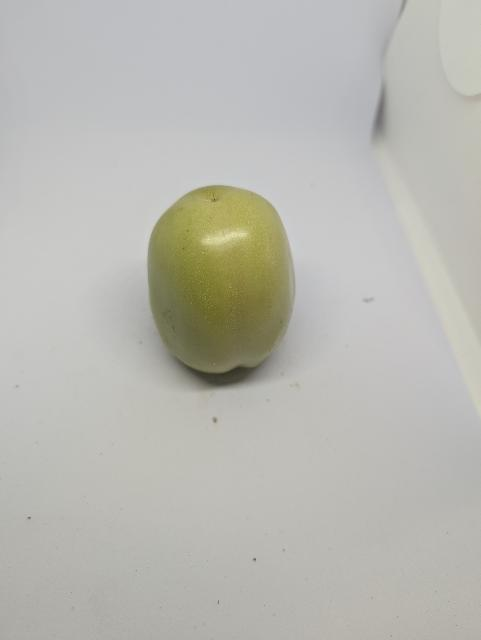green: (144, 182, 300, 379)
